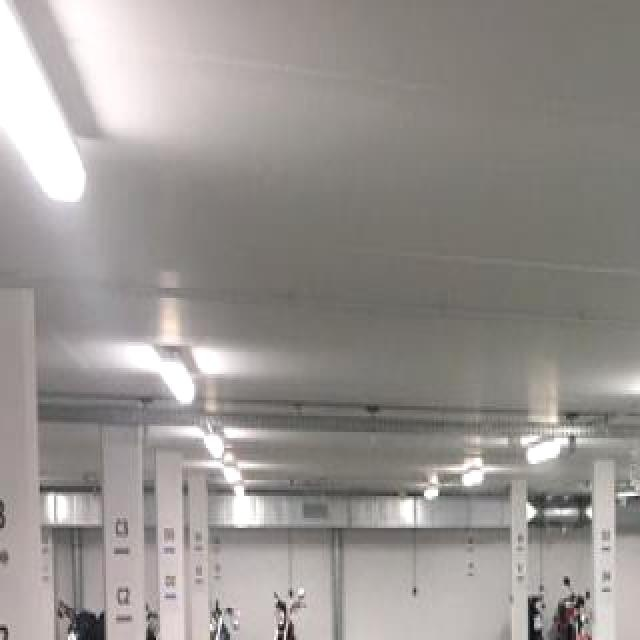fluorescent tube: (0, 0, 116, 238), (504, 420, 571, 482), (149, 344, 200, 424), (187, 415, 238, 469), (207, 447, 253, 493), (455, 453, 500, 496), (408, 476, 448, 513), (628, 362, 640, 424), (231, 485, 251, 507)
